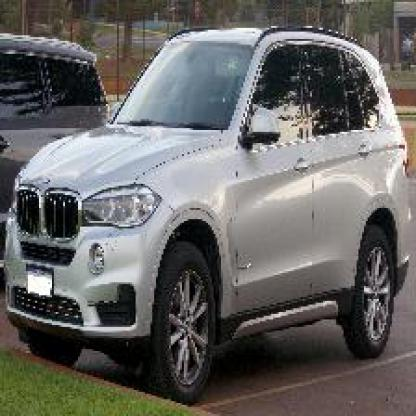not_emergency: (9, 24, 396, 368)
